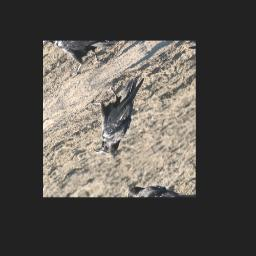Crow: (73, 64, 166, 164)
